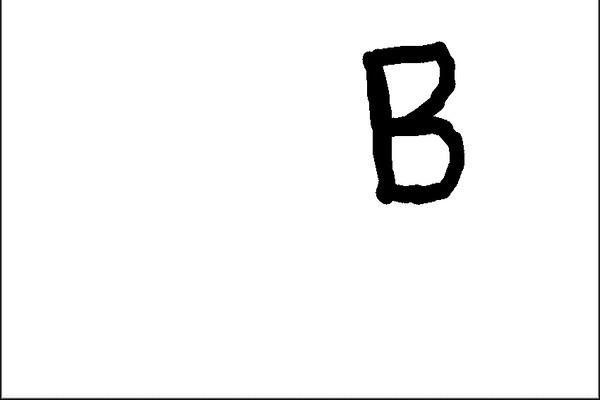B: (355, 35, 469, 209)
